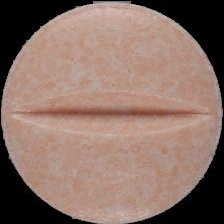58118-0631: (0, 0, 224, 224)
